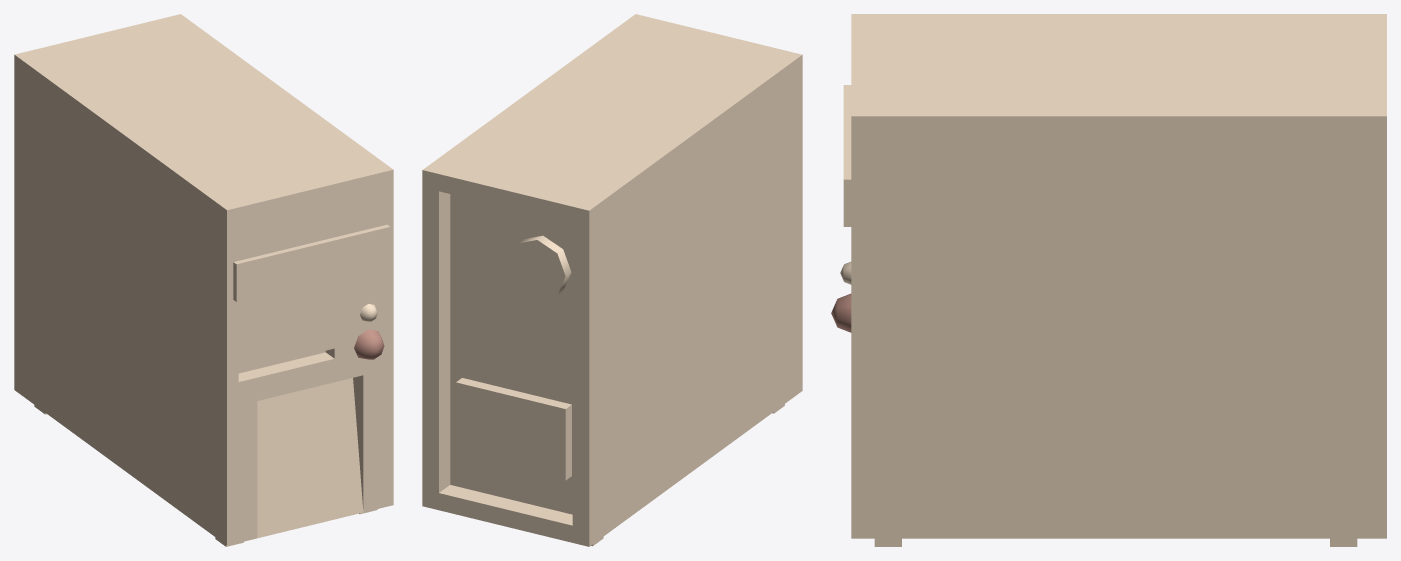
The picture shows the model from 3 angles, left to right: view 1: azimuth 30°, elevation 25°; view 2: azimuth 150°, elevation 25°; view 3: azimuth 270°, elevation 25°; orthographic projection. The views are drawn at different scales.
Visible parts, largest first — view 1: pc1; view 2: pc1; view 3: pc1.
Boxes of the visible parts, <box> form: pc1: <box>14,14,393,546</box>; pc1: <box>422,14,802,546</box>; pc1: <box>831,14,1386,546</box>.
Size of the model in its own units: 19.13 by 37.93 by 43.94.
